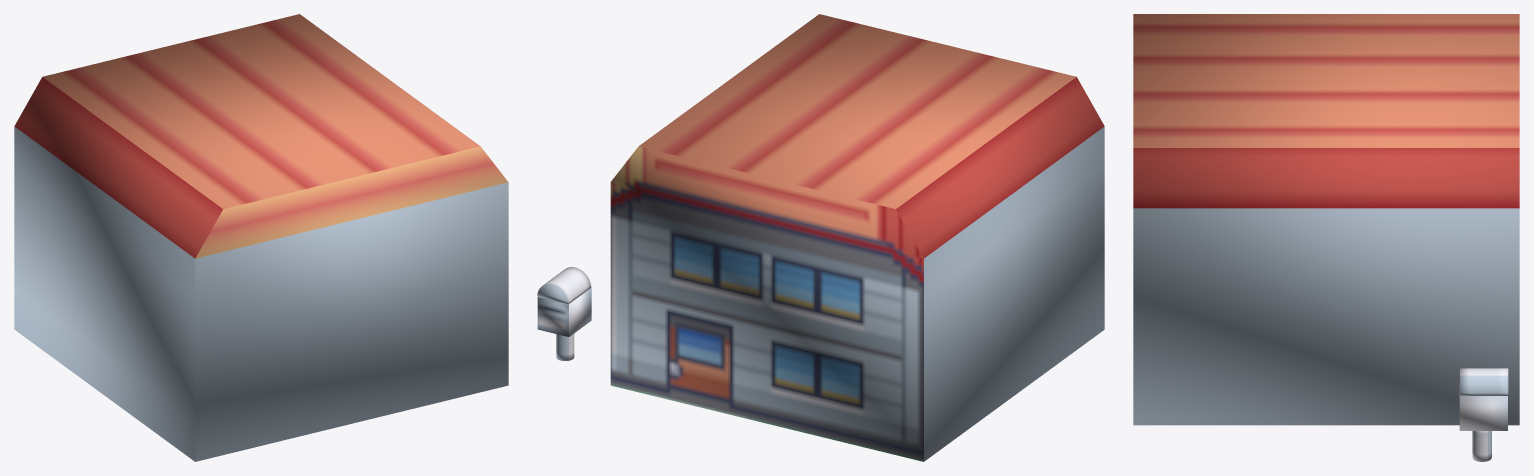
File: Casa2.obj
3 renders of one model, left to right at view 1: azimuth 30°, elevation 25°; view 2: azimuth 150°, elevation 25°; view 3: azimuth 270°, elevation 25°, orthographic. The views are drawn at different scales.
Visible parts, largest first — view 1: Casa2; view 2: Casa2, Buzon2; view 3: Casa2, Buzon2.
Boxes of the visible parts, x1,y1,x2,y2 form: Casa2: (14, 14, 508, 461); Casa2: (610, 14, 1104, 461); Buzon2: (537, 267, 591, 360); Casa2: (1133, 14, 1519, 425); Buzon2: (1459, 368, 1508, 461).
Size of the model in its own units: 19.7 by 11.81 by 15.75.
